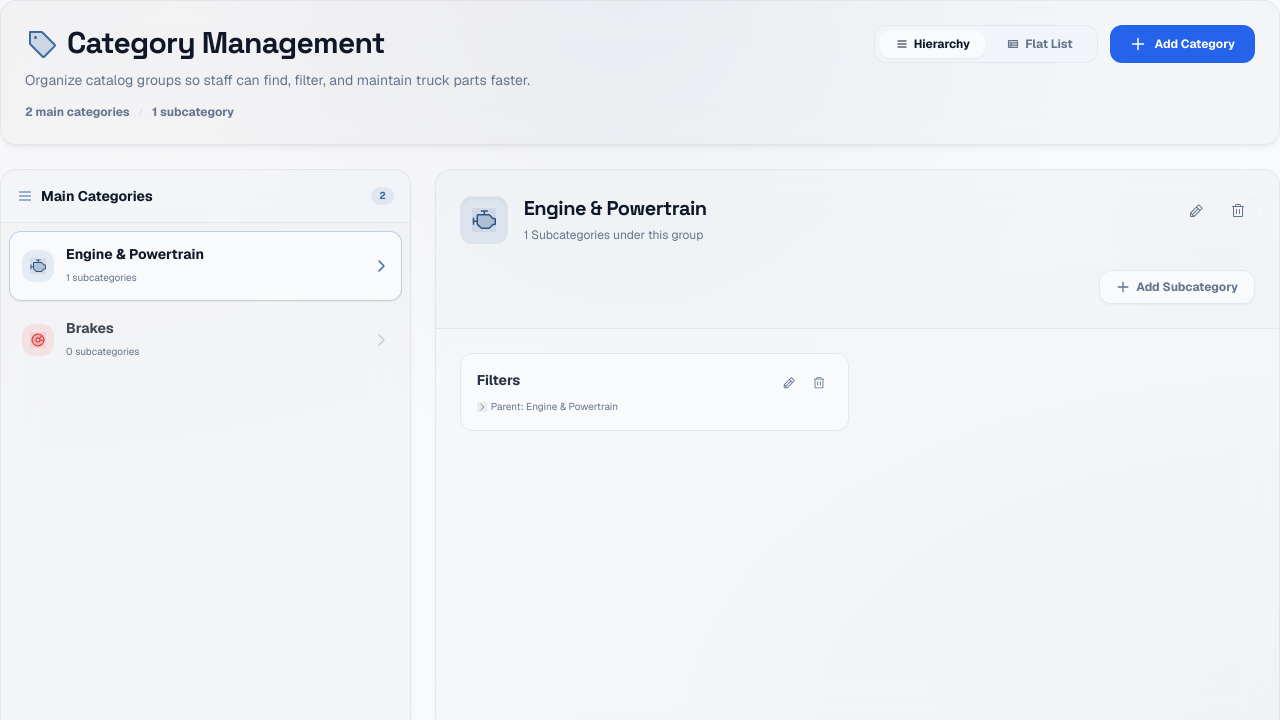
Test case: CategoryManagement › renders hierarchy mode by default and lets staff select a main category with buttons
Click the button "Brakes 0 subcategories": (38, 340) top-left (9, 305), bottom-right (402, 375)
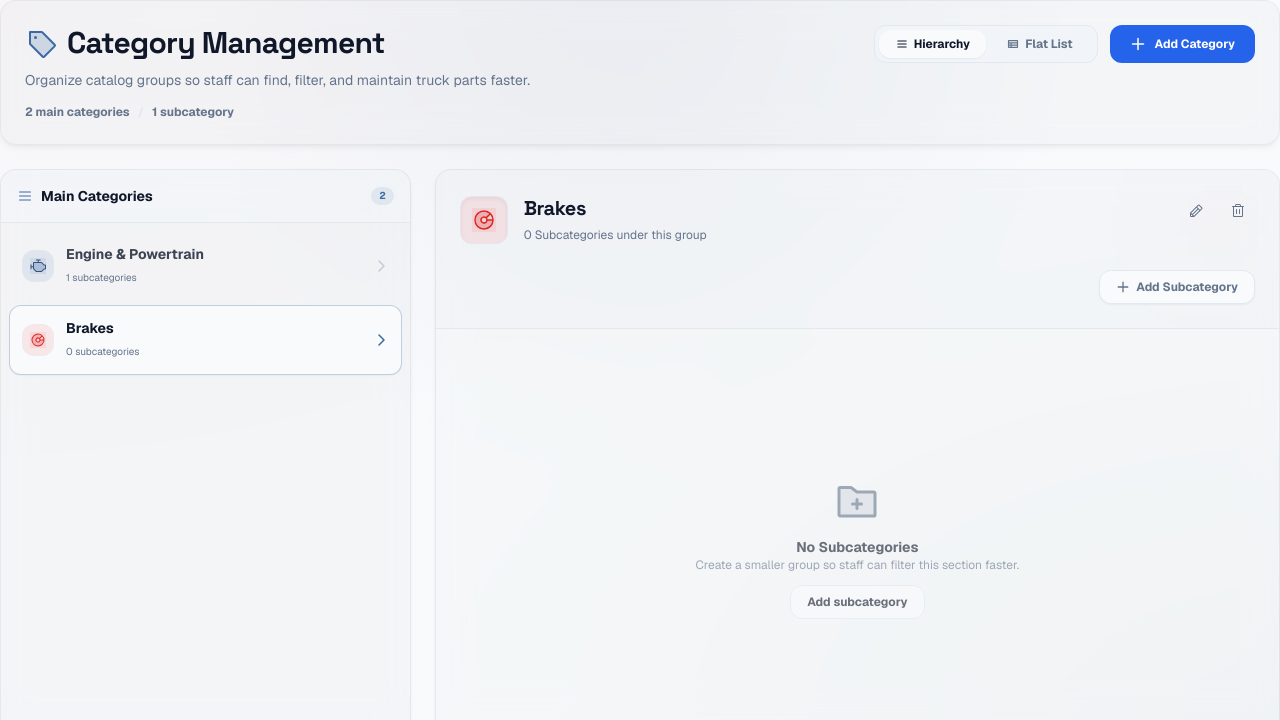
Expected: the heading "Brakes" is shown, top-left (524, 195), bottom-right (586, 221)
Expected: the text "0 Subcategories under this group" is shown, top-left (524, 227), bottom-right (707, 243)
